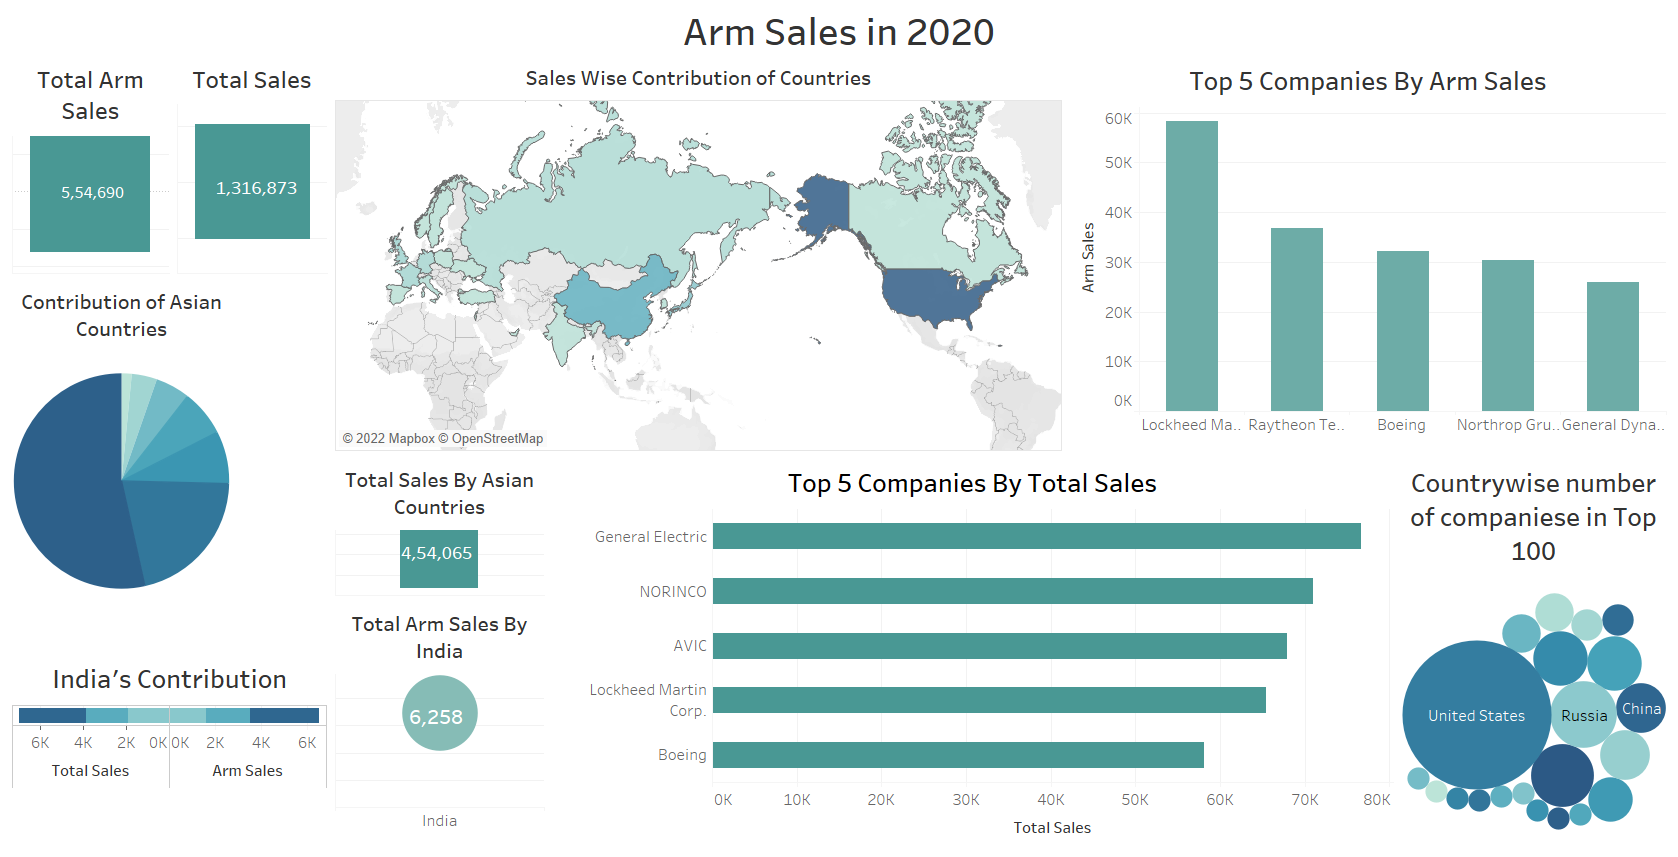

Layout of this report page (visuals, bound fields, positions):
{"tool":"tableau","page":{"name":"Dashboard 1","canvas":[1000,1000],"units":"permille","ordinal":0},"visuals":[{"type":"title","box":[4.8,9.3,990.5,52.5]},{"type":"worksheet","title":"Sheet 5","mark":"Square","rows":["Arm Sales"],"box":[4.8,61.8,98.3,261.7]},{"type":"worksheet","title":"Sheet 6","mark":"Square","rows":["Total Sales"],"box":[103.1,61.8,94.2,261.7]},{"type":"worksheet","title":"Sheet 4","mark":"Automatic","box":[197.2,61.8,438,469.1]},{"type":"worksheet","title":"Sheet 1","mark":"Automatic","rows":["Arm Sales"],"cols":["Company"],"box":[635.2,61.8,360.1,469.1]},{"type":"worksheet","title":"Sheet 8","mark":"Pie","box":[4.8,323.5,192.4,436.1]},{"type":"worksheet","title":"Sheet 10","mark":"Square","rows":["Total Sales"],"box":[197.2,530.9,129.4,168.6]},{"type":"worksheet","title":"Sheet 2","mark":"Automatic","rows":["Company"],"cols":["Total Sales"],"box":[326.6,530.9,505.8,459.8]},{"type":"worksheet","title":"Sheet 3","mark":"Circle","box":[832.4,530.9,162.9,459.8]},{"type":"worksheet","title":"Sheet 9","mark":"Circle","rows":["Total Sales"],"cols":["Country"],"box":[197.2,699.5,129.4,291.2]},{"type":"worksheet","title":"Sheet 7","mark":"Automatic","cols":["Total Sales","Arm Sales"],"box":[4.8,759.6,192.4,231.1]}]}

Visuals, with their boxes on the dashboard's canvas, which has no fixed pixel size, in thousandths of its width and height (x1, y1, x2, y2). These are canvas units, not pixel positions in the 1678x857 screenshot, which may show the page scaled, cropped or inside an application window:
title: [left=5, top=9, right=995, bottom=62]
"Sheet 5" worksheet (Square marks): [left=5, top=62, right=103, bottom=324]
"Sheet 6" worksheet (Square marks): [left=103, top=62, right=197, bottom=324]
"Sheet 4" worksheet: [left=197, top=62, right=635, bottom=531]
"Sheet 1" worksheet: [left=635, top=62, right=995, bottom=531]
"Sheet 8" worksheet (Pie marks): [left=5, top=324, right=197, bottom=760]
"Sheet 10" worksheet (Square marks): [left=197, top=531, right=327, bottom=700]
"Sheet 2" worksheet: [left=327, top=531, right=832, bottom=991]
"Sheet 3" worksheet (Circle marks): [left=832, top=531, right=995, bottom=991]
"Sheet 9" worksheet (Circle marks): [left=197, top=700, right=327, bottom=991]
"Sheet 7" worksheet: [left=5, top=760, right=197, bottom=991]
